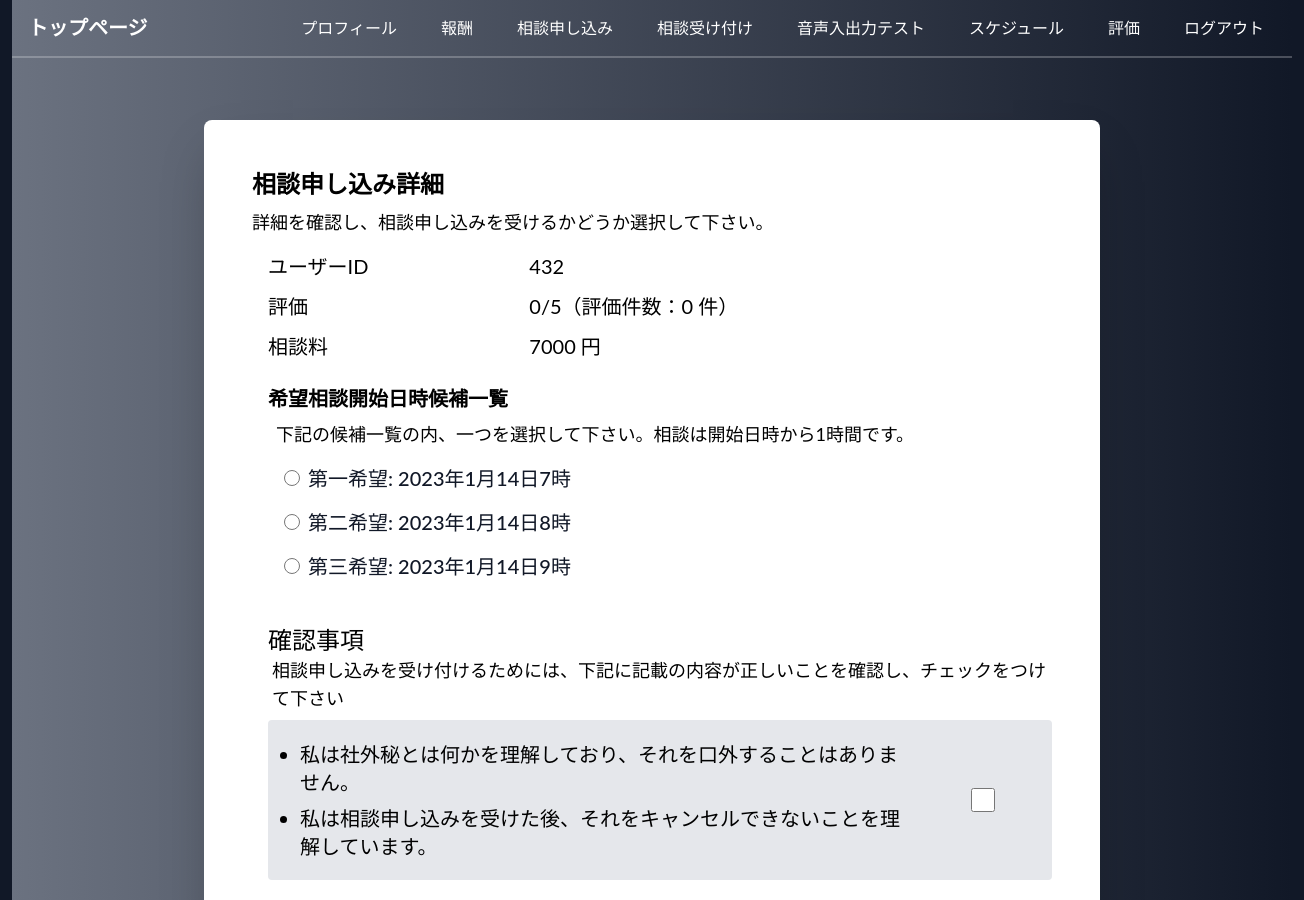
Test: ConsultationRequestDetailPage.vue › lets accept button enabled after user checks confirmation
Click the checkbox with test id "user-checked": (983, 800) [971,788,995,812]
(page scrolled)
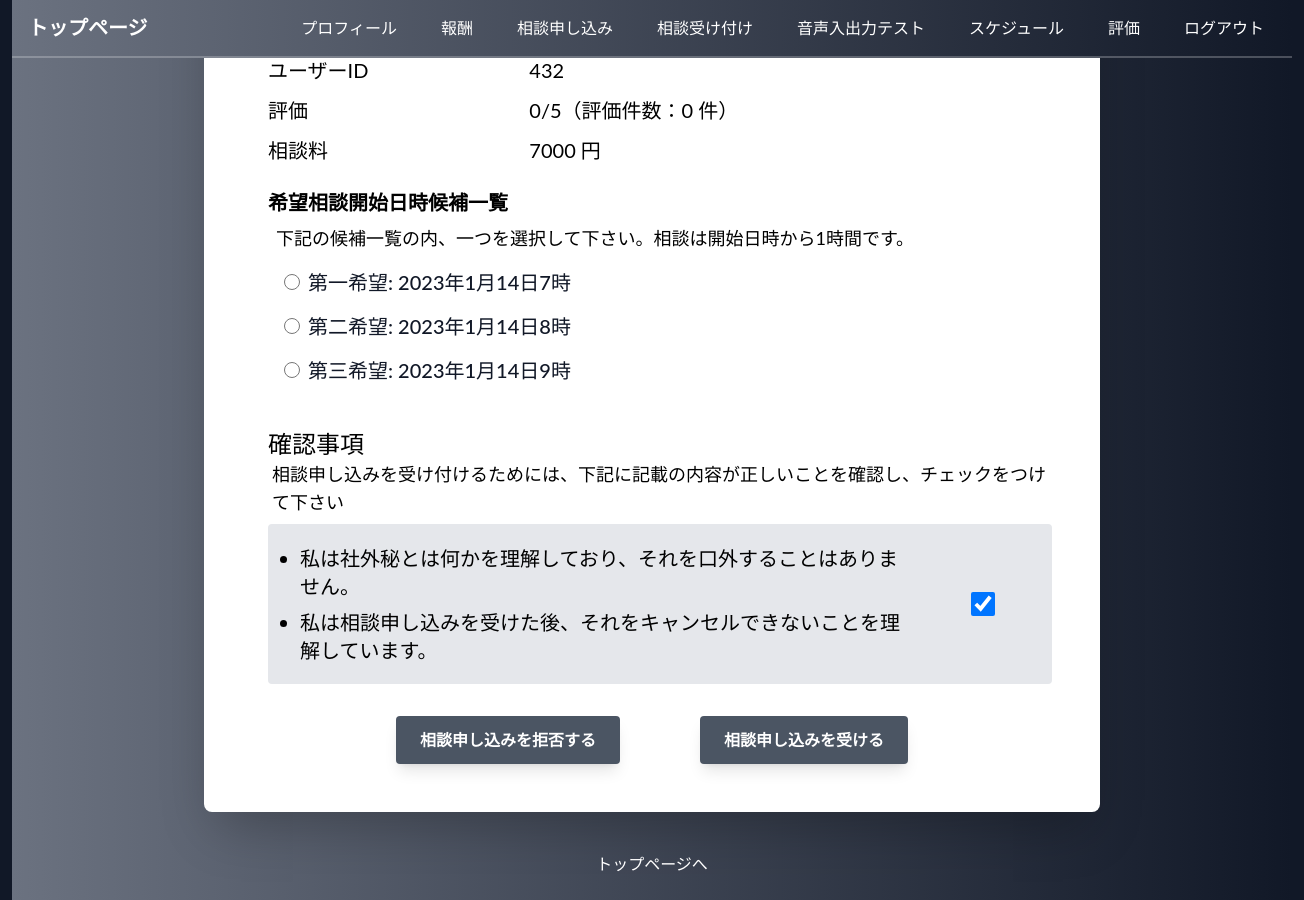
Expected: the button with test id "accept-btn" is enabled, [700,716,908,764]
